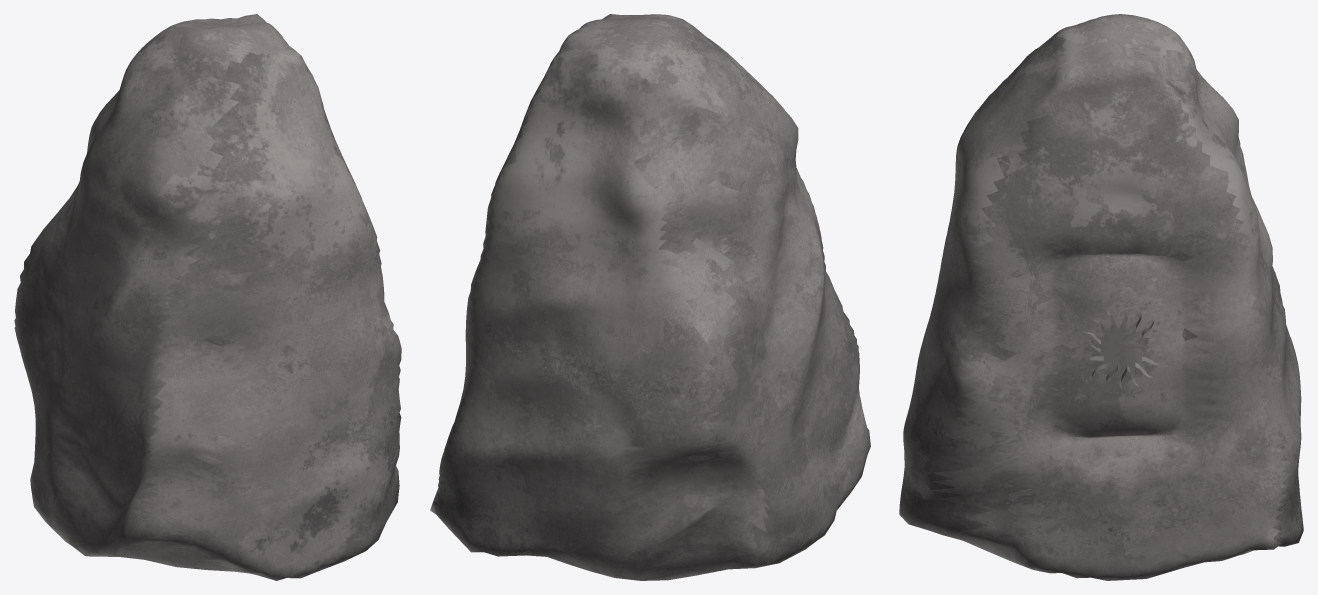
File: SunRock.fbx
The picture shows the model from 3 angles, left to right: view 1: azimuth 30°, elevation 25°; view 2: azimuth 150°, elevation 25°; view 3: azimuth 270°, elevation 25°; orthographic projection. The views are drawn at different scales.
Visible parts, largest first — view 1: sun; view 2: sun; view 3: sun.
Boxes of the visible parts, bbox=[...] form: sun: bbox=[14, 14, 401, 580]; sun: bbox=[430, 14, 870, 580]; sun: bbox=[899, 14, 1303, 580].
Bounding box in the file's own units: 135 × 214 × 156.
Materials: 1 (1 with a texture image).
